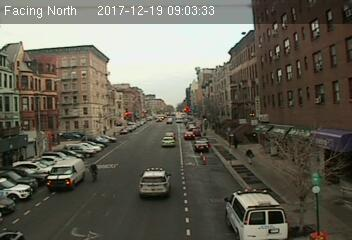car: (192, 141, 209, 153), (160, 136, 175, 147), (183, 130, 195, 141)
pedestrian: (243, 146, 256, 172)
police: (225, 187, 292, 239), (136, 166, 173, 200)
truck: (45, 157, 85, 192)
